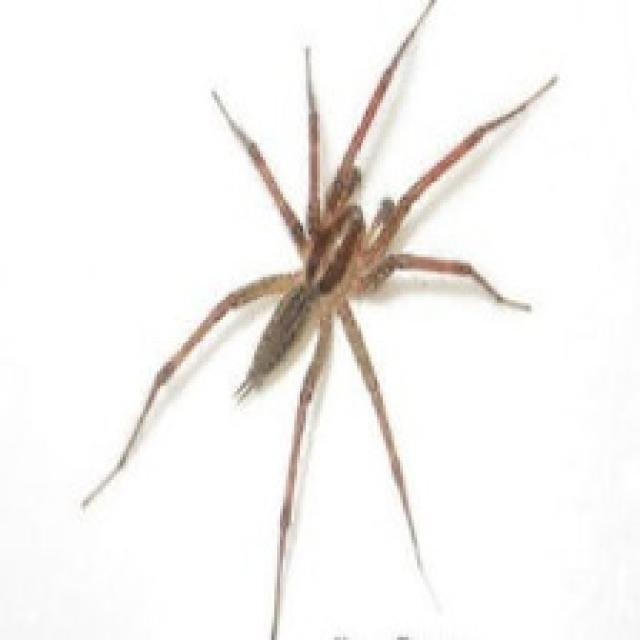Non venomous spider: (95, 20, 547, 599)
